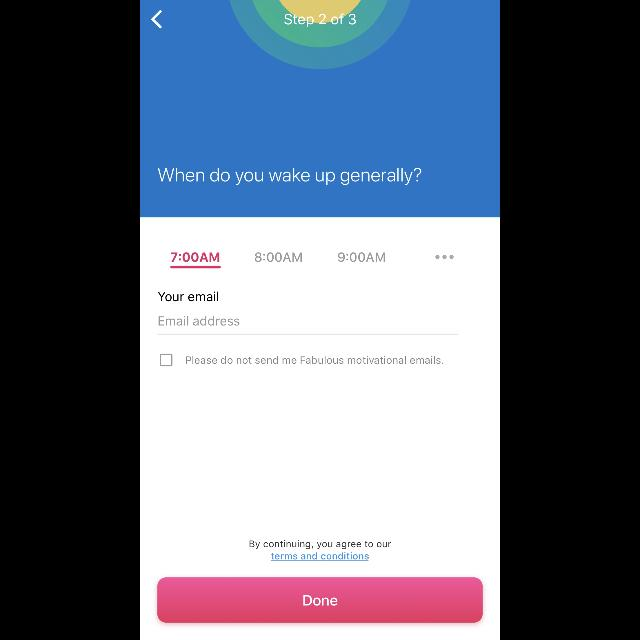checkbox: (160, 354, 172, 366)
icon: (152, 11, 162, 29), (435, 254, 453, 260)
image: (141, 1, 499, 218)
input: (158, 316, 458, 334)
text: (158, 168, 422, 186), (250, 540, 392, 560), (186, 356, 444, 364), (284, 13, 356, 27), (158, 316, 240, 326), (171, 252, 221, 268), (158, 292, 218, 302), (338, 252, 386, 262), (255, 252, 302, 262)
textbutton: (158, 578, 482, 622)
